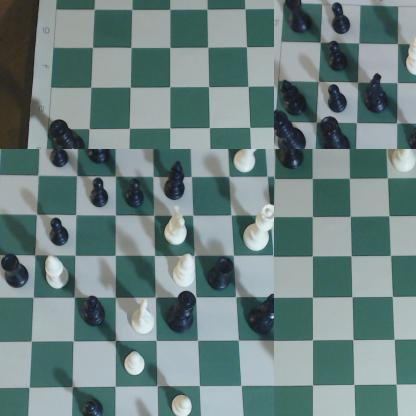black-bishop: (282, 79, 314, 119), (165, 159, 187, 201)
black-king: (47, 116, 88, 149), (168, 291, 198, 335), (275, 109, 307, 149)
black-knight: (364, 71, 394, 120), (86, 150, 113, 166)
black-pawn: (322, 37, 352, 79), (329, 1, 357, 41), (324, 82, 350, 115), (84, 294, 108, 327), (48, 217, 70, 249), (125, 179, 147, 210), (89, 177, 110, 209), (80, 398, 107, 416), (49, 150, 71, 170), (402, 122, 416, 149)
black-queen: (317, 115, 360, 149), (248, 290, 274, 338), (276, 150, 309, 174)
black-rook: (282, 1, 321, 36), (1, 252, 31, 290), (209, 254, 236, 290)
white-bishop: (173, 253, 198, 290), (45, 255, 71, 289), (406, 36, 416, 81)
white-knight: (163, 206, 190, 247), (132, 300, 158, 337)
white-pawn: (170, 392, 195, 416), (125, 351, 147, 377)
white-queen: (245, 203, 274, 253), (389, 150, 416, 178)
white-rook: (235, 150, 262, 174)
